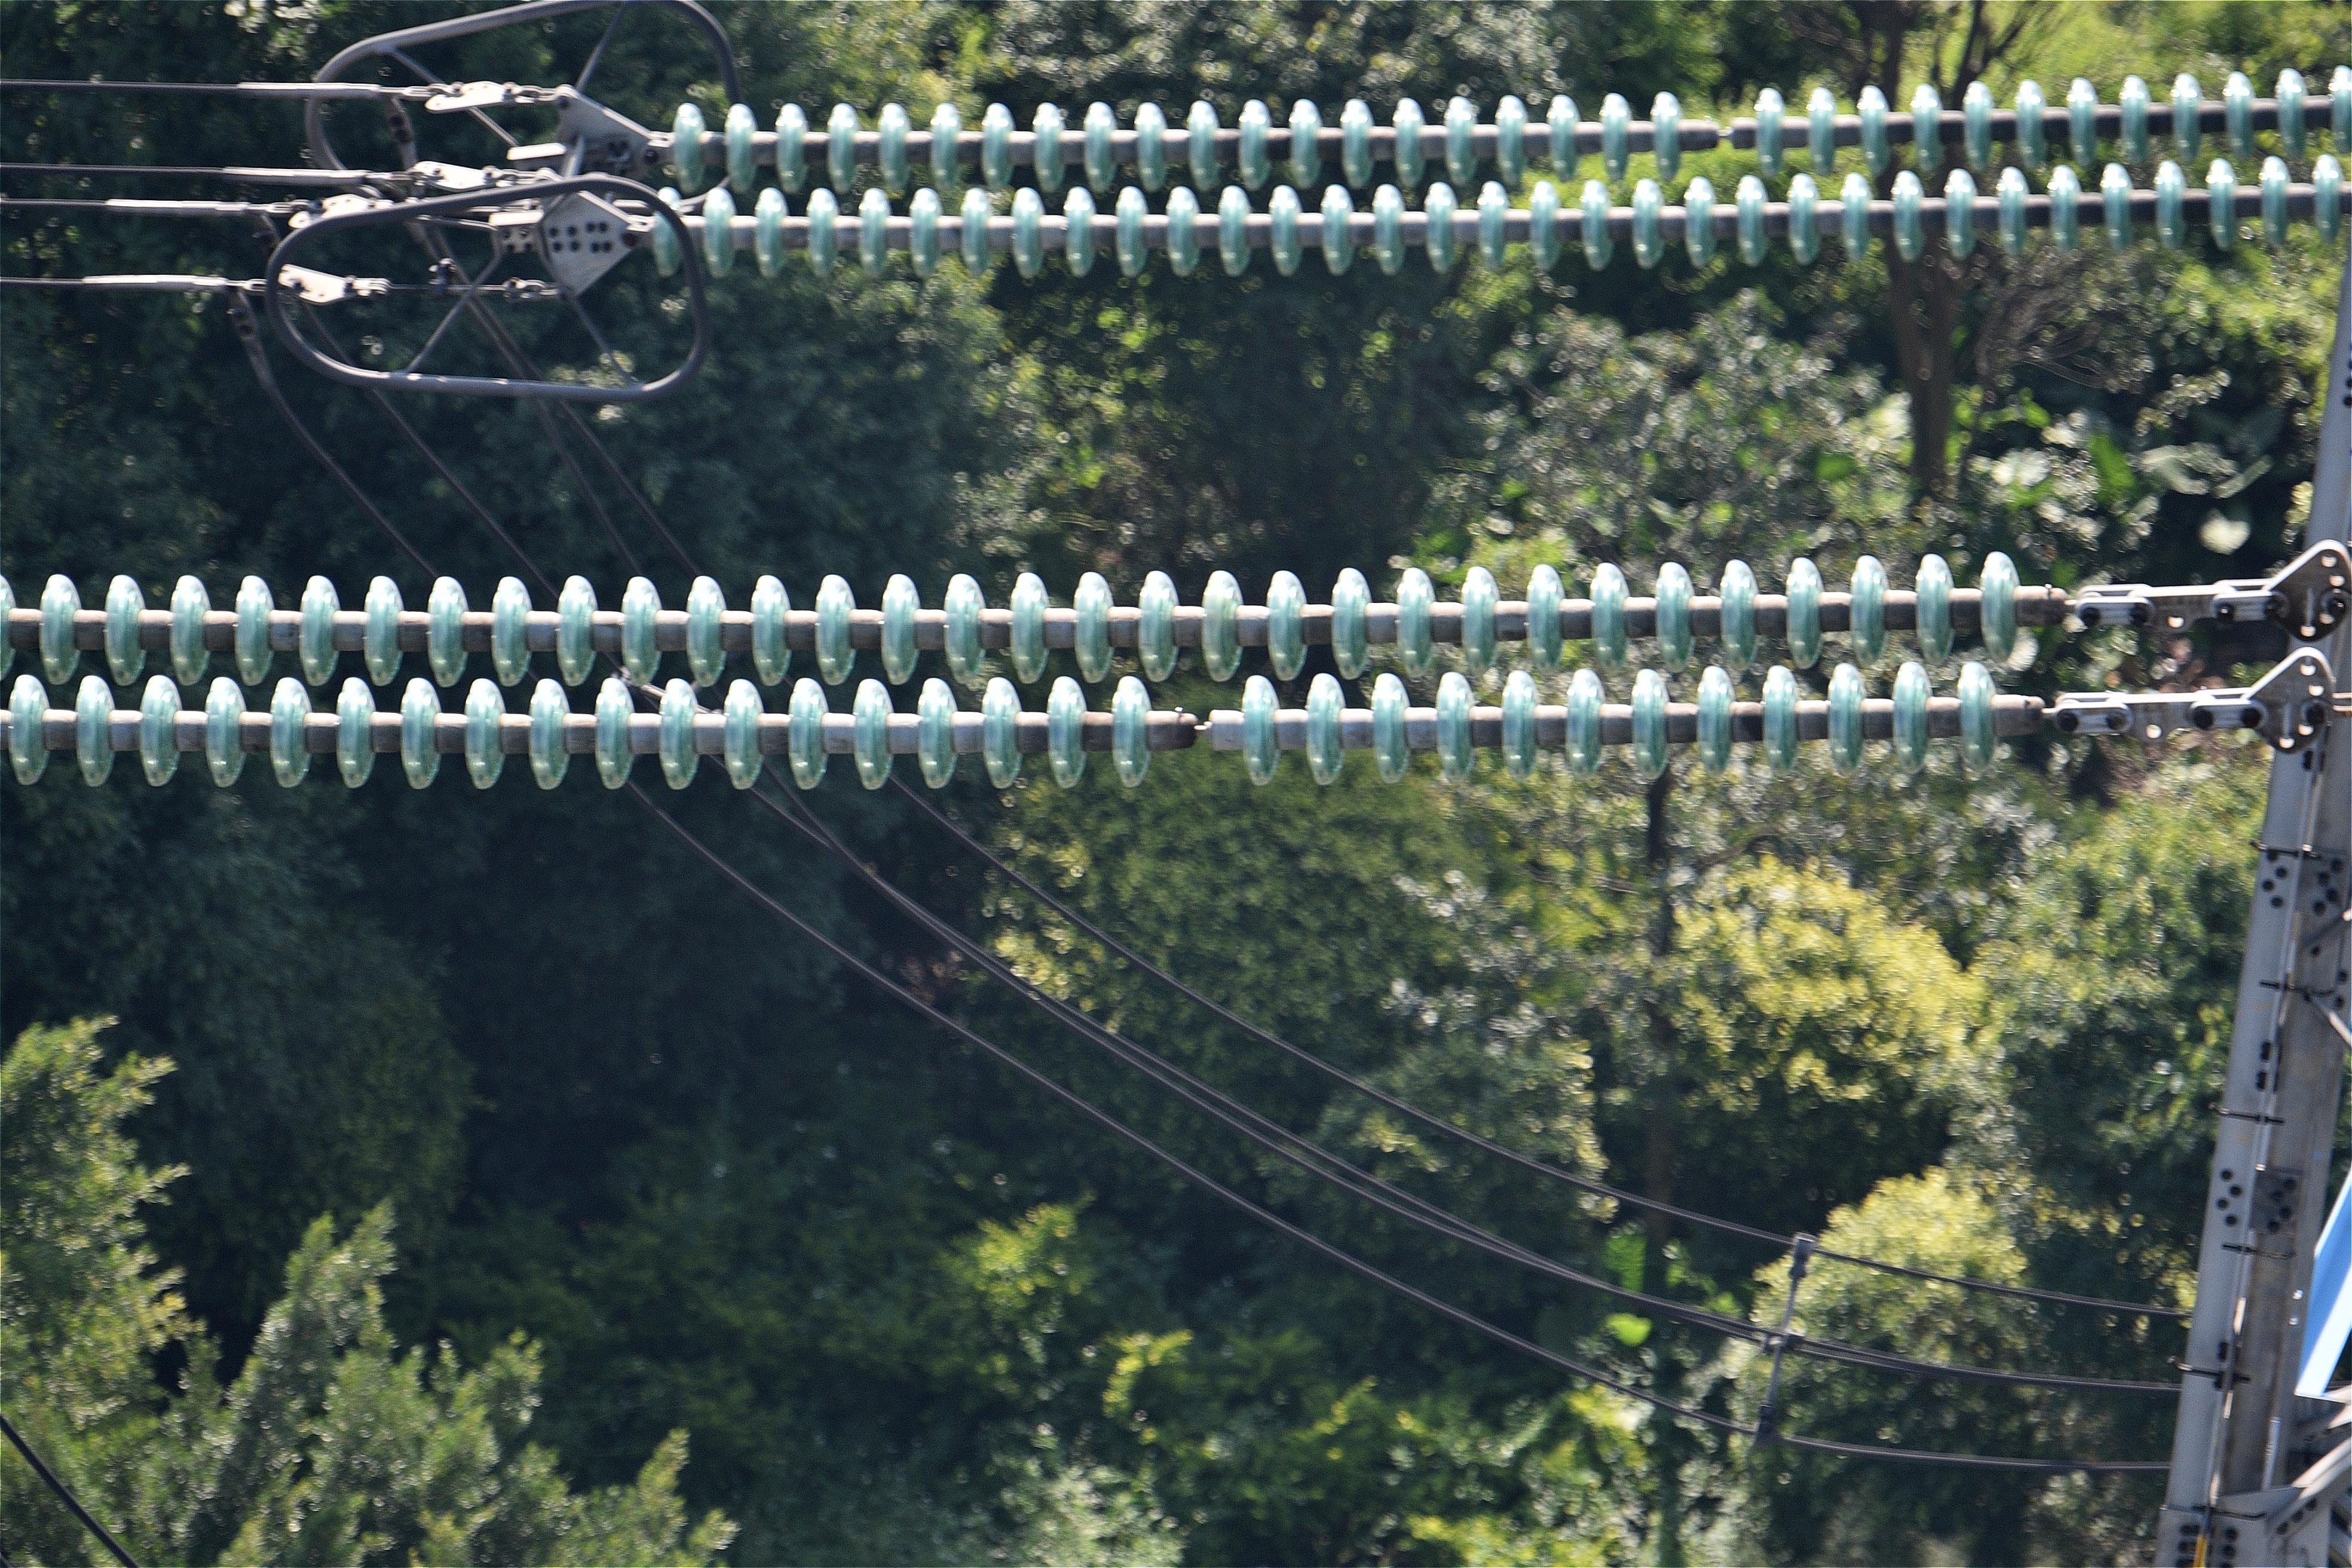insultor3: (0, 530, 2182, 835), (577, 44, 2352, 318)
